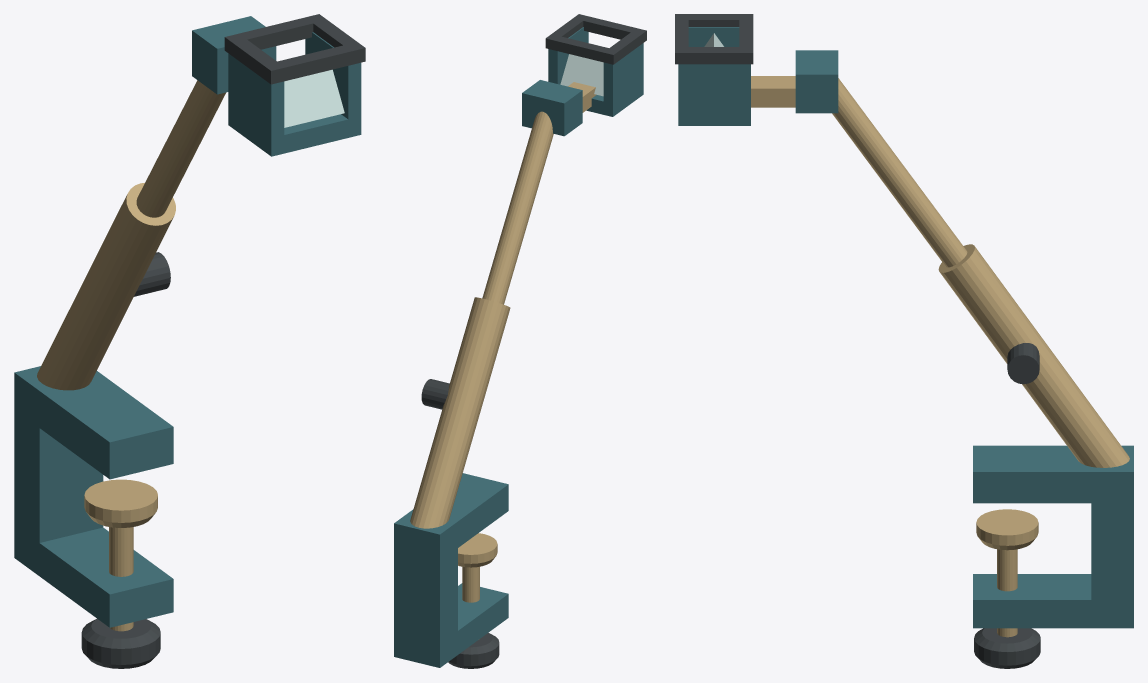
3 views of the same model, side by side, from view 1: azimuth 30°, elevation 25°; view 2: azimuth 150°, elevation 25°; view 3: azimuth 270°, elevation 25° (orthographic). The views are drawn at different scales.
Parts seen in each view (by area): view 1: WholeOpenCClamp, WholeInclinedOuterSleeve, WholeOpenPrismFork, WholeAperturedUpperViewingMask, WholeNarrowInnerStem, WholeLowerThumbWheel, WholeBroadContactPad, WholeElbowHead, WholeOpaqueTriangularPrism, WholeClampScrew, WholeSleeveClampKnob; view 2: WholeOpenCClamp, WholeInclinedOuterSleeve, WholeNarrowInnerStem, WholeOpenPrismFork, WholeAperturedUpperViewingMask, WholeElbowHead, WholeOpaqueTriangularPrism, WholeLowerThumbWheel, WholeBroadContactPad, WholeSleeveClampKnob, WholeClampScrew; view 3: WholeOpenCClamp, WholeInclinedOuterSleeve, WholeNarrowInnerStem, WholeOpenPrismFork, WholeAperturedUpperViewingMask, WholeElbowHead, WholeLowerThumbWheel, WholeBroadContactPad, WholeShortOverhangingCarrier, WholeSleeveClampKnob, WholeClampScrew.
Boxes of the visible parts, x1,y1,x2,y2 form: WholeOpenCClamp: (14,366,173,627); WholeInclinedOuterSleeve: (37,183,175,390); WholeOpenPrismFork: (228,32,361,156); WholeAperturedUpperViewingMask: (224,14,365,84); WholeNarrowInnerStem: (136,80,226,217); WholeLowerThumbWheel: (81,619,160,668); WholeBroadContactPad: (84,479,157,527); WholeElbowHead: (192,16,276,94); WholeOpaqueTriangularPrism: (284,69,344,127); WholeClampScrew: (109,527,133,631); WholeSleeveClampKnob: (134,252,170,296); WholeOpenCClamp: (394,473,508,667); WholeInclinedOuterSleeve: (410,297,510,528); WholeNarrowInnerStem: (482,111,553,304); WholeOpenPrismFork: (548,27,643,116); WholeAperturedUpperViewingMask: (545,14,646,64); WholeElbowHead: (522,80,582,136); WholeOpaqueTriangularPrism: (560,54,603,96); WholeLowerThumbWheel: (448,633,499,668); WholeBroadContactPad: (458,533,497,567); WholeSleeveClampKnob: (421,379,449,409); WholeClampScrew: (462,566,479,602); WholeOpenCClamp: (973,445,1133,628); WholeInclinedOuterSleeve: (938,244,1129,467); WholeNarrowInnerStem: (832,78,967,267); WholeOpenPrismFork: (678,27,750,125); WholeAperturedUpperViewingMask: (675,14,753,64); WholeElbowHead: (795,50,838,113); WholeLowerThumbWheel: (974,628,1040,668); WholeBroadContactPad: (976,509,1038,550); WholeShortOverhangingCarrier: (751,76,795,107); WholeSleeveClampKnob: (1007,343,1039,384); WholeClampScrew: (997,549,1017,637).
Size of the model in its own units: 0.082 by 0.598 by 0.399.
